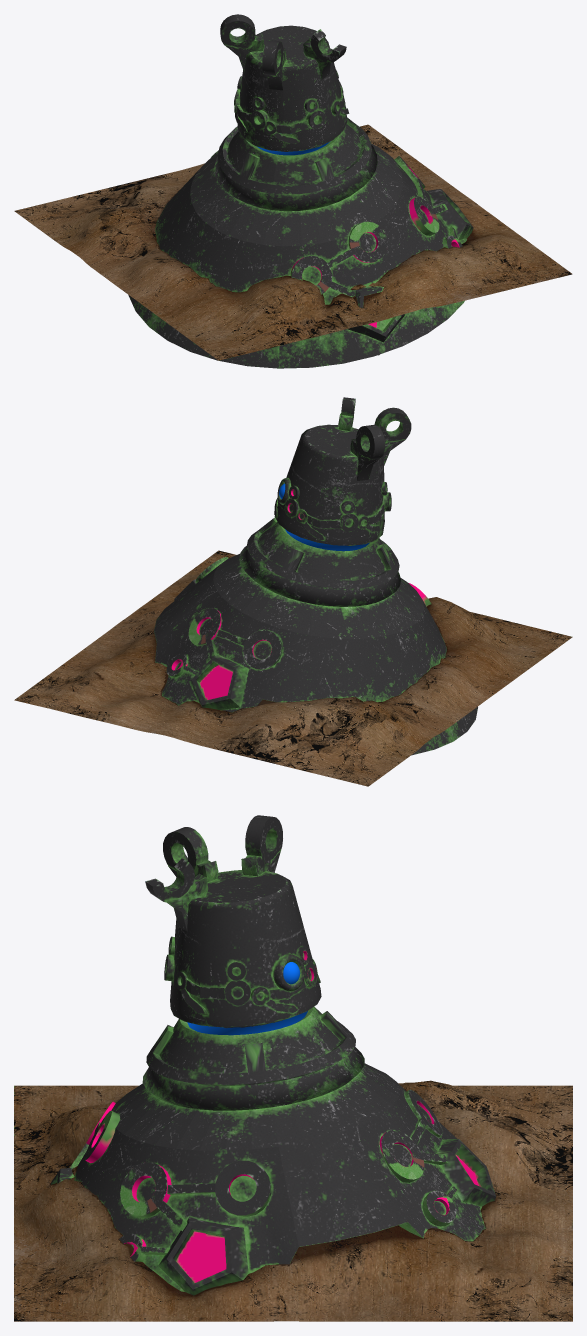
The picture shows the model from 3 angles, top to bottom: view 1: azimuth 30°, elevation 25°; view 2: azimuth 150°, elevation 25°; view 3: azimuth 270°, elevation 25°; orthographic projection. The views are drawn at different scales.
Parts seen in each view (by area): view 1: polySurface50, polySurface34, polySurface1, pasted__polySurface4, polySurface56, polySurface49, polySurface57, pasted__polySurface5, polySurface42, polySurface47, pasted__polySurface6, pasted__polySurface7; view 2: polySurface50, polySurface34, pasted__polySurface4, polySurface1, polySurface40, polySurface53, polySurface54, pasted__polySurface5, pasted__polySurface6; view 3: polySurface50, polySurface34, pasted__polySurface4, polySurface1, polySurface49, polySurface43, polySurface40, polySurface42, polySurface54, pasted__polySurface5, pasted__polySurface6, pasted__polySurface7 (+5 smaller).
Boxes of the visible parts, x1,y1,x2,y2 form: polySurface50: [14, 124, 572, 360]; polySurface34: [128, 143, 466, 368]; polySurface1: [214, 117, 377, 211]; pasted__polySurface4: [225, 25, 347, 155]; polySurface56: [322, 221, 387, 267]; polySurface49: [426, 189, 473, 240]; polySurface57: [290, 255, 355, 297]; pasted__polySurface5: [220, 14, 255, 49]; polySurface42: [409, 196, 447, 235]; polySurface47: [348, 286, 405, 355]; pasted__polySurface6: [262, 40, 283, 75]; pasted__polySurface7: [310, 29, 346, 62]; polySurface50: [14, 550, 572, 786]; polySurface34: [154, 554, 477, 755]; pasted__polySurface4: [274, 413, 405, 551]; polySurface1: [239, 517, 400, 606]; polySurface40: [190, 654, 248, 709]; polySurface53: [216, 629, 282, 669]; polySurface54: [188, 608, 221, 666]; pasted__polySurface5: [356, 424, 385, 460]; pasted__polySurface6: [374, 407, 411, 442]; polySurface50: [14, 1080, 572, 1321]; polySurface34: [74, 1063, 485, 1291]; pasted__polySurface4: [166, 849, 321, 1035]; polySurface1: [142, 1006, 364, 1110]; polySurface49: [158, 1217, 248, 1295]; polySurface43: [167, 1160, 271, 1216]; polySurface40: [436, 1139, 496, 1206]; polySurface42: [120, 1162, 187, 1231]; polySurface54: [379, 1130, 448, 1182]; pasted__polySurface5: [245, 815, 282, 864]; pasted__polySurface6: [163, 827, 208, 870]; pasted__polySurface7: [145, 858, 194, 902].
Bounding box in the file's own units: 8 × 6.42 × 7.99.
Materials: 1 (1 with a texture image).
